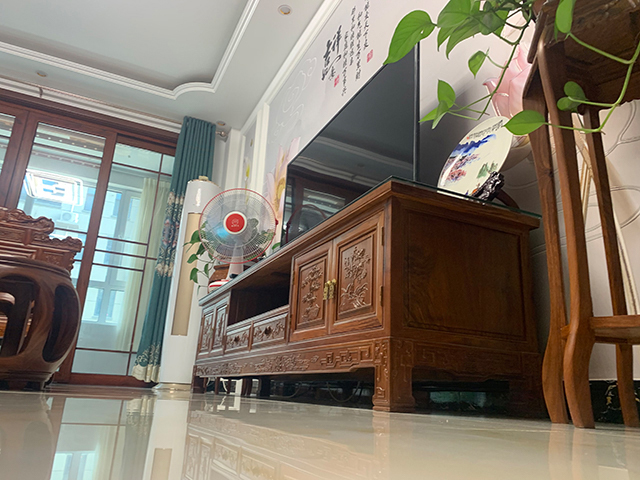cabinet: (190, 175, 548, 416)
curtain: (132, 114, 217, 383)
stool: (1, 253, 82, 393)
